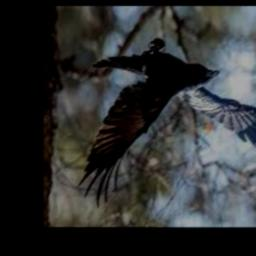Crow: (79, 38, 256, 208)
